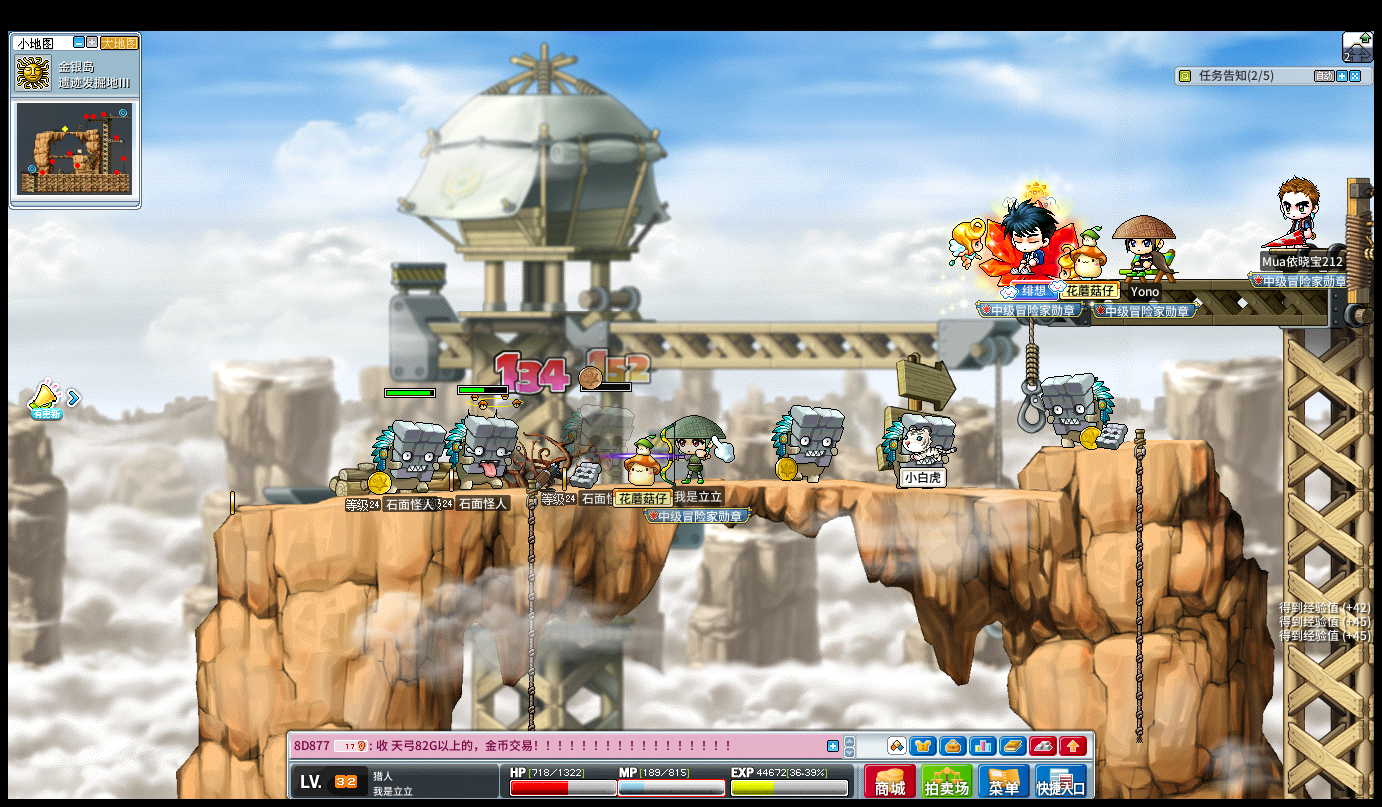floor: (192, 476, 1115, 495), (1038, 434, 1209, 451)
monster: (771, 405, 845, 483), (1041, 372, 1114, 450), (562, 402, 629, 484), (447, 414, 519, 490), (373, 419, 446, 492)
rope: (1130, 427, 1147, 757), (523, 478, 538, 686), (1026, 318, 1038, 393)
